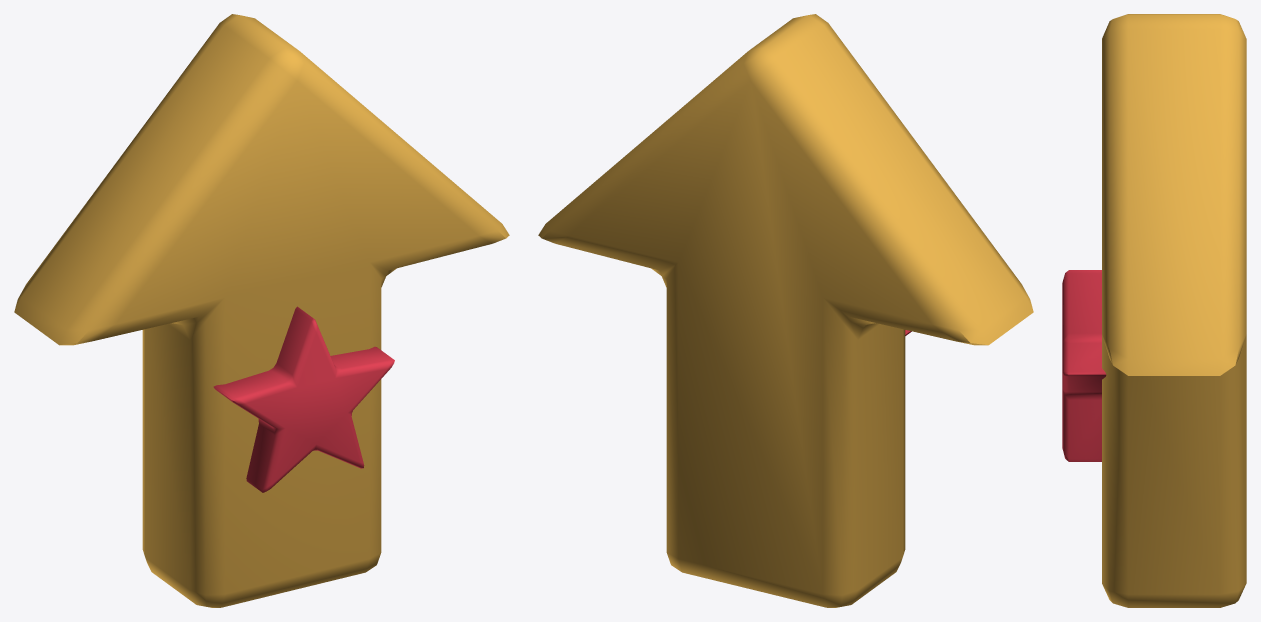
File: icon_upgrade.glb
3 views of the same model, side by side, from view 1: azimuth 30°, elevation 25°; view 2: azimuth 150°, elevation 25°; view 3: azimuth 270°, elevation 25° (orthographic). The views are drawn at different scales.
Visible parts, largest first — view 1: Upgrade; view 2: Upgrade; view 3: Upgrade.
Boxes of the visible parts, box(x1,y1,x2,y2) form: Upgrade: box(14, 14, 509, 607); Upgrade: box(538, 14, 1033, 607); Upgrade: box(1062, 14, 1246, 607).
Bounding box in the file's own units: 0.8111 × 0.9331 × 0.28.
Materials: 1 (1 with a texture image).
